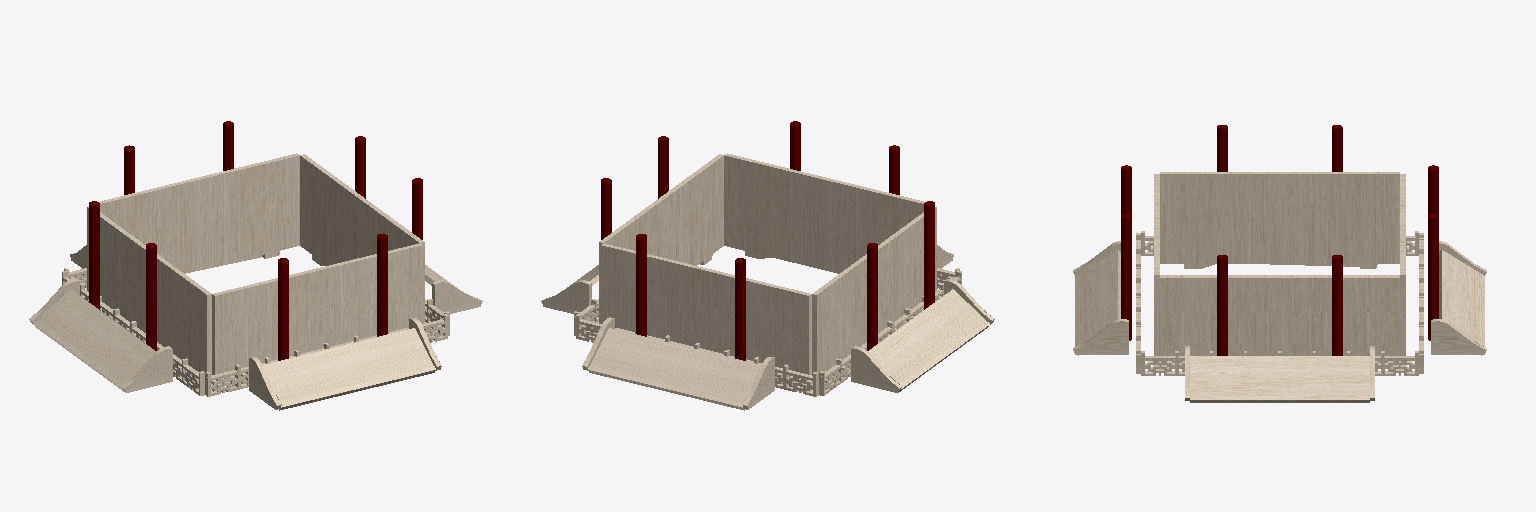
3 renders of one model, left to right at view 1: azimuth 30°, elevation 25°; view 2: azimuth 150°, elevation 25°; view 3: azimuth 270°, elevation 25°, orthographic.
Visible parts, largest first — view 1: Mesh19 ___670_1 Model, Mesh161 ___670_3 Model, Mesh99 ___616_3 ___673_3 ___1325_1 Model, Mesh178 ___670_4 Model, Mesh144 ___670_2 ___1325_1 Model, Mesh102 ___616_4 ___673_4 ___1325_1 Model, Mesh103 ___618_8 ___673_4 ___1325_1 Model, Mesh181 ___630_5 ___646_3 Model, Mesh182 ___630_6 ___646_3 Model, Mesh183 ___630_7 ___646_4 Model, Mesh184 ___630_8 ___646_4 Model, Mesh71 ___618_3 ___673_2 ___1325_1 Model (+6 smaller); view 2: Mesh161 ___670_3 Model, Mesh19 ___670_1 Model, Mesh69 ___616_1 ___673_1 ___1325_1 Model, Mesh144 ___670_2 ___1325_1 Model, Mesh178 ___670_4 Model, Mesh102 ___616_4 ___673_4 ___1325_1 Model, Mesh101 ___618_7 ___673_4 ___1325_1 Model, Mesh182 ___630_6 ___646_3 Model, Mesh181 ___630_5 ___646_3 Model, Mesh180 ___630_4 ___646_2 Model, Mesh179 ___630_3 ___646_2 Model, Mesh73 ___618_4 ___673_2 ___1325_1 Model (+6 smaller); view 3: Mesh144 ___670_2 ___1325_1 Model, Mesh178 ___670_4 Model, Mesh72 ___616_2 ___673_2 ___1325_1 Model, Mesh99 ___616_3 ___673_3 ___1325_1 Model, Mesh69 ___616_1 ___673_1 ___1325_1 Model, Mesh68 ___618_1 ___673_1 ___1325_1 Model, Mesh100 ___618_6 ___673_3 ___1325_1 Model, Mesh179 ___630_3 ___646_2 Model, Mesh184 ___630_8 ___646_4 Model, Mesh1 ___630_1 ___646_1 Model, Mesh2 ___630_2 ___646_1 Model, Mesh19 ___670_1 Model (+5 smaller).
Part boxes in pixels (x1,y1,x2,y2): Mesh19 ___670_1 Model: (99, 153, 299, 273); Mesh161 ___670_3 Model: (212, 243, 422, 383); Mesh99 ___616_3 ___673_3 ___1325_1 Model: (263, 328, 435, 410); Mesh178 ___670_4 Model: (300, 154, 424, 323); Mesh144 ___670_2 ___1325_1 Model: (87, 207, 211, 375); Mesh102 ___616_4 ___673_4 ___1325_1 Model: (34, 289, 155, 392); Mesh103 ___618_8 ___673_4 ___1325_1 Model: (122, 347, 172, 392); Mesh181 ___630_5 ___646_3 Model: (89, 201, 99, 309); Mesh182 ___630_6 ___646_3 Model: (146, 243, 156, 350); Mesh183 ___630_7 ___646_4 Model: (278, 258, 288, 360); Mesh184 ___630_8 ___646_4 Model: (377, 234, 387, 336); Mesh71 ___618_3 ___673_2 ___1325_1 Model: (432, 280, 482, 313); Mesh161 ___670_3 Model: (724, 153, 924, 273); Mesh19 ___670_1 Model: (601, 243, 811, 383); Mesh69 ___616_1 ___673_1 ___1325_1 Model: (588, 328, 760, 410); Mesh144 ___670_2 ___1325_1 Model: (812, 207, 936, 375); Mesh178 ___670_4 Model: (599, 154, 723, 323); Mesh102 ___616_4 ___673_4 ___1325_1 Model: (868, 289, 989, 392); Mesh101 ___618_7 ___673_4 ___1325_1 Model: (851, 347, 901, 392); Mesh182 ___630_6 ___646_3 Model: (924, 201, 934, 309); Mesh181 ___630_5 ___646_3 Model: (867, 243, 877, 350); Mesh180 ___630_4 ___646_2 Model: (735, 258, 745, 360); Mesh179 ___630_3 ___646_2 Model: (636, 234, 646, 336); Mesh73 ___618_4 ___673_2 ___1325_1 Model: (541, 280, 591, 313); Mesh144 ___670_2 ___1325_1 Model: (1160, 172, 1399, 268); Mesh178 ___670_4 Model: (1160, 275, 1399, 366); Mesh72 ___616_2 ___673_2 ___1325_1 Model: (1190, 356, 1369, 402); Mesh99 ___616_3 ___673_3 ___1325_1 Model: (1075, 250, 1120, 355); Mesh69 ___616_1 ___673_1 ___1325_1 Model: (1439, 250, 1484, 355); Mesh68 ___618_1 ___673_1 ___1325_1 Model: (1431, 319, 1486, 354); Mesh100 ___618_6 ___673_3 ___1325_1 Model: (1073, 319, 1128, 354); Mesh179 ___630_3 ___646_2 Model: (1428, 214, 1438, 340); Mesh184 ___630_8 ___646_4 Model: (1121, 214, 1131, 340); Mesh1 ___630_1 ___646_1 Model: (1217, 255, 1227, 355); Mesh2 ___630_2 ___646_1 Model: (1332, 255, 1342, 355); Mesh19 ___670_1 Model: (1400, 174, 1405, 355).
Bounding box in the file's own units: 152 × 51.8 × 152.
3 materials, 1 textured.